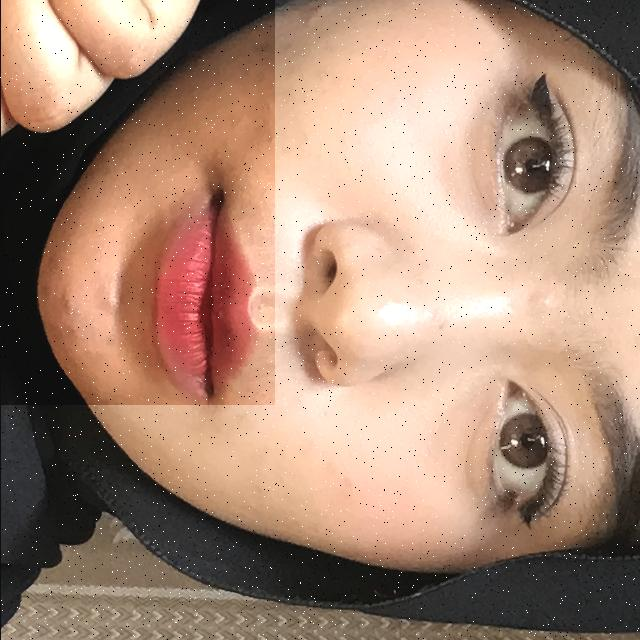sedih: (0, 0, 274, 405)
